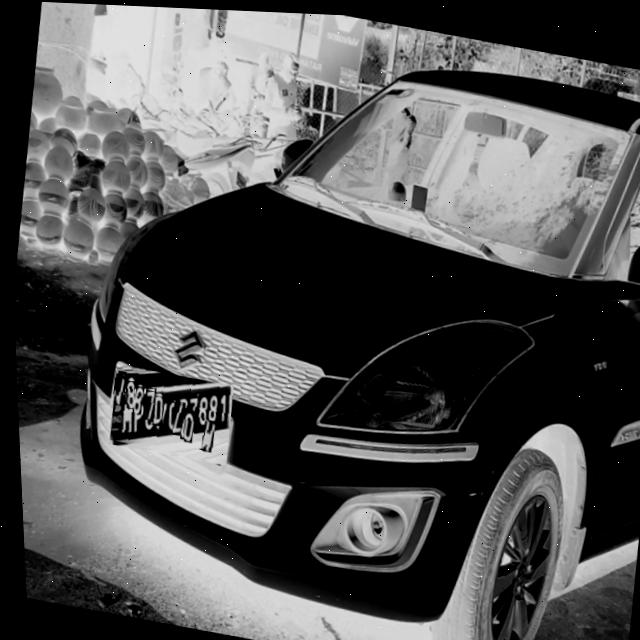0: (177, 408, 192, 442)
1: (110, 373, 124, 406)
7: (167, 402, 182, 435), (138, 388, 153, 420)
8: (120, 379, 134, 409), (129, 385, 142, 414)
C: (157, 398, 172, 429)
D: (147, 394, 162, 426)
IND: (209, 422, 224, 447)
Indian_registered: (106, 382, 227, 441)
M: (197, 419, 213, 451)
P: (187, 415, 203, 448)
